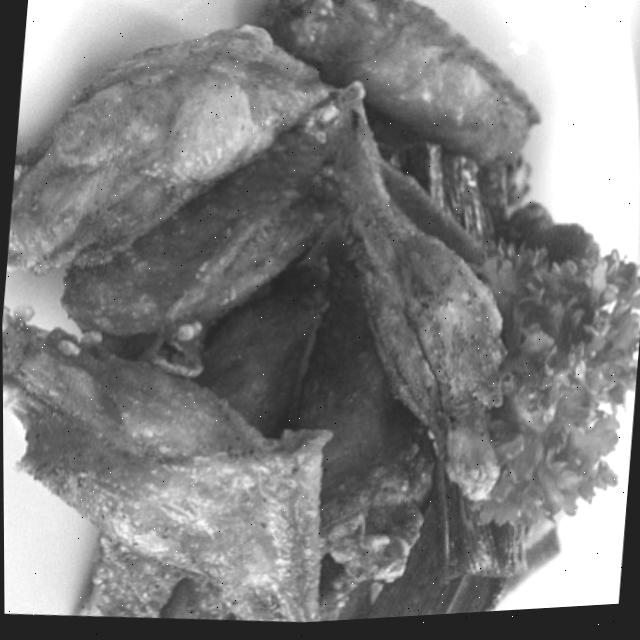鸡肉料理 含炸鸡: (0, 0, 638, 640)
